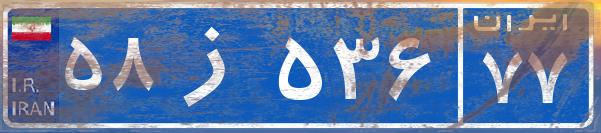3: (330, 28, 385, 110)
5: (273, 28, 330, 110), (57, 26, 110, 107)
6: (385, 28, 445, 110)
7: (475, 38, 525, 113), (525, 38, 570, 115)
8: (110, 28, 158, 105)
ز: (158, 15, 273, 115)
